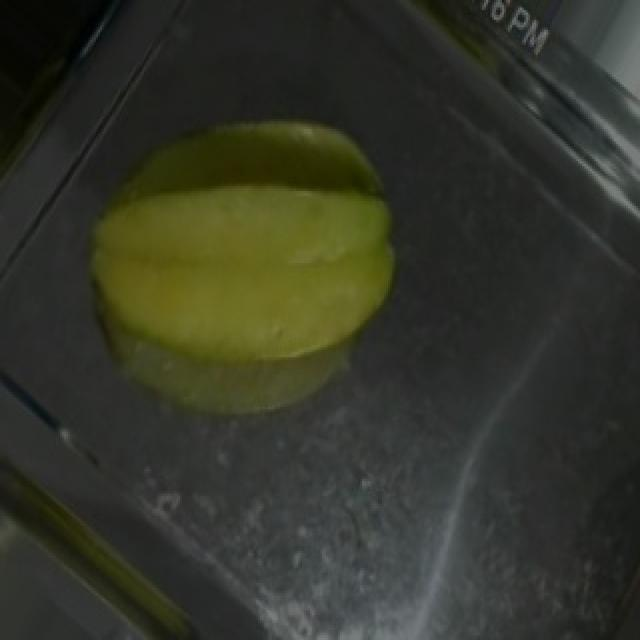fruit: (30, 0, 444, 474)
